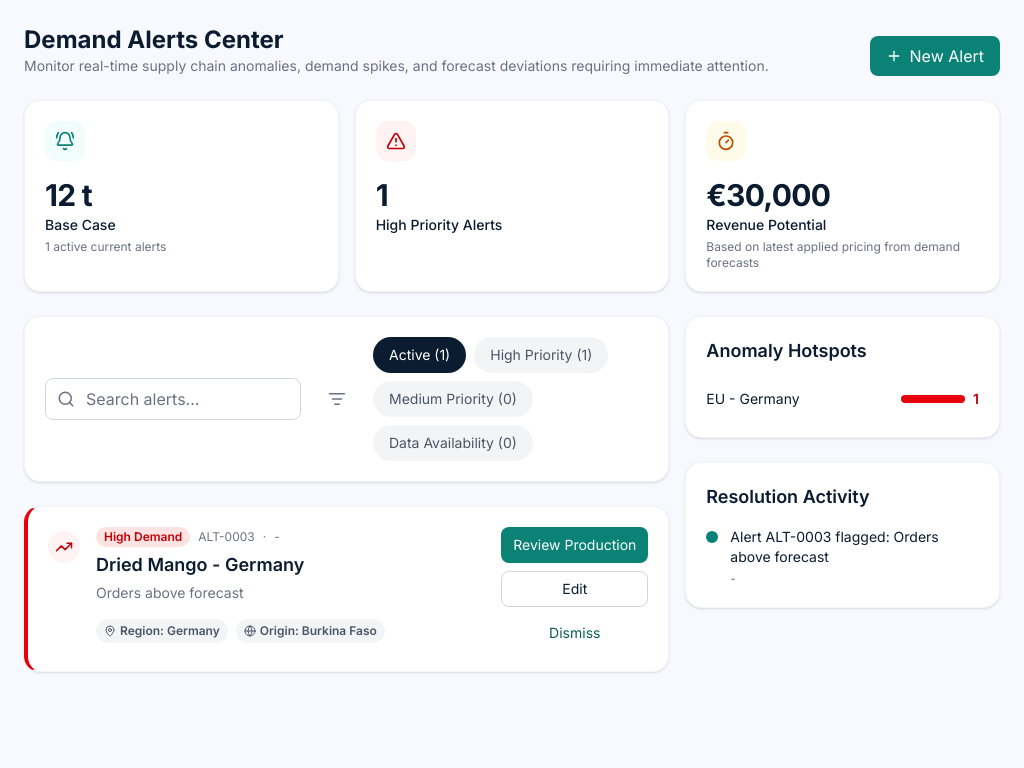
Scenario: DemandAlertsPage › marks an alert resolved
Click the button "Review Production" at x=575, y=545, box [501, 527, 648, 563]
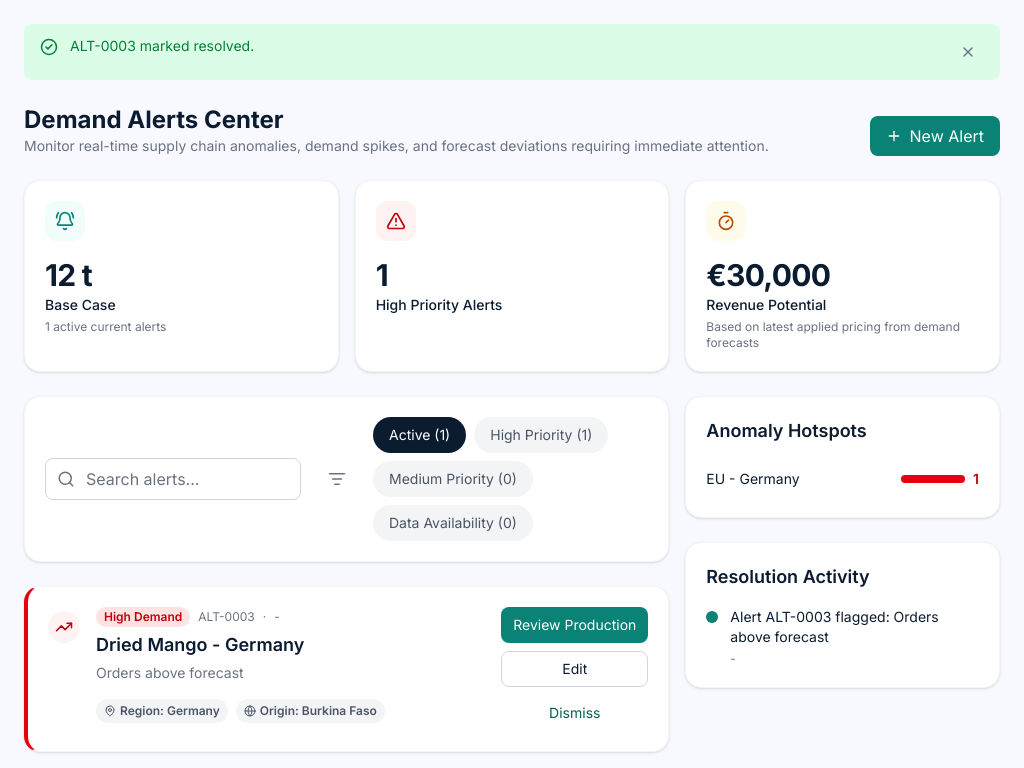
Expected: the text "ALT-0003 marked resolved." is shown, [70, 37, 254, 54]
